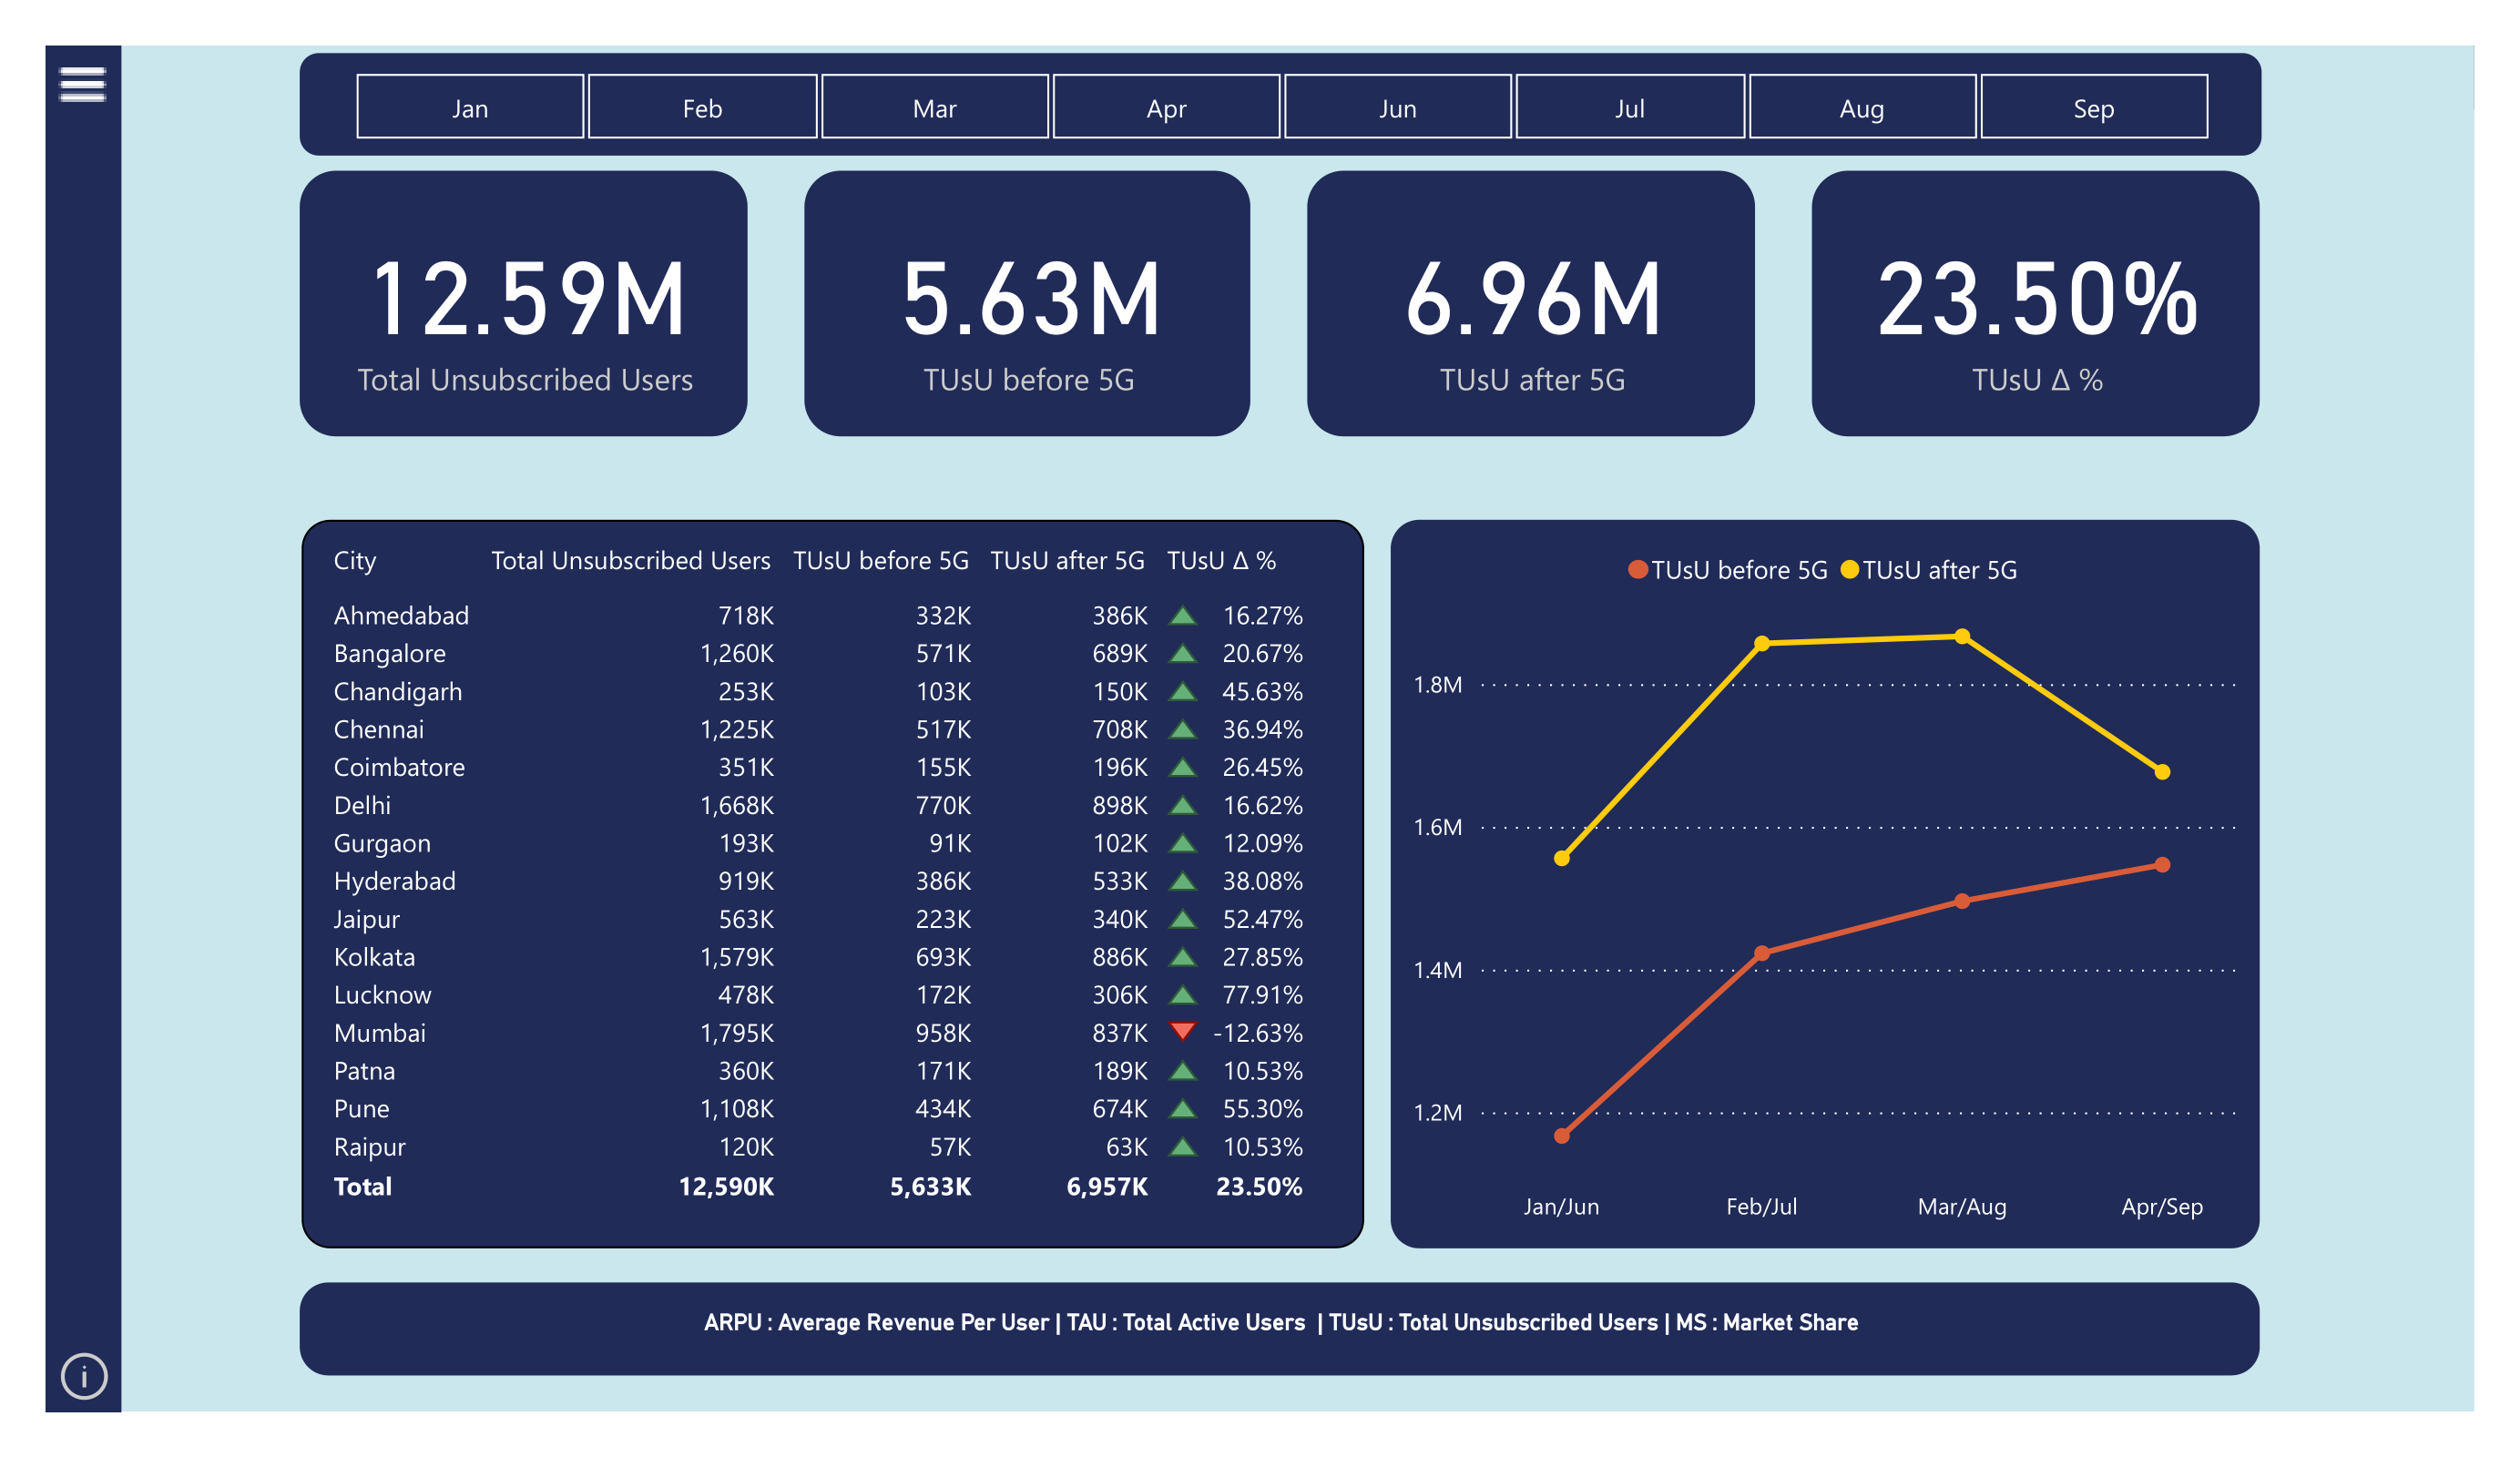

What the dashboard file says about the page in this screenshot:
{"tool":"powerbi","page":{"name":"TSU","canvas":[1280,720],"ordinal":4},"visuals":[{"type":"shape","title":"blue left border","box":[0,0,40,935],"z":0,"group":"g2"},{"type":"slicer","fields":{"Values":["dim_date.month_name"]},"box":[134,4,1034,54],"z":0},{"type":"card","fields":{"Values":["Key Measures.Tot Unsub Users"]},"box":[133.6,66,235.9,140.2],"z":0,"group":"g1"},{"type":"actionButton","title":"hamburger","box":[2,3,35,35],"z":1000,"group":"g2"},{"type":"group","id":"g1","title":"Group 1","box":[133.6,66,1032.6,635],"z":1000},{"type":"card","fields":{"Values":["Key Measures.TUU before 5G"]},"box":[399.2,66,235.9,140.2],"z":1000,"group":"g1"},{"type":"card","fields":{"Values":["Key Measures.TUU after 5G"]},"box":[664.7,66,235.9,140.2],"z":2000,"group":"g1"},{"type":"actionButton","title":"info","box":[3,684.4,34.8,34.8],"z":2000,"group":"g2"},{"type":"group","id":"g2","title":"Menu Bar","box":[0,0,40,935],"z":3000},{"type":"card","fields":{"Values":["Key Measures.TUU Δ %"]},"box":[930.3,66,235.9,140.2],"z":3000,"group":"g1"},{"type":"lineChart","fields":{"Category":["dim_date.Month compare"],"Y":["Key Measures.TUsU before 5G","Key Measures.TUsU after 5G"]},"box":[709.1,249.9,457.1,384],"z":4000,"group":"g1"},{"type":"textbox","box":[134.1,652.2,1032.1,48.8],"z":5000,"group":"g1"},{"type":"tableEx","fields":{"Values":["dim_cities.city_name","Key Measures.Tot Unsub Users","Key Measures.TUsU before 5G","Key Measures.TUsU after 5G","Key Measures.TUU Δ %"]},"box":[134.4,250,560,384],"z":6000,"group":"g1"}]}

Visuals, with their boxes on the page's 1280x720 design canvas (x1, y1, x2, y2). These are canvas units, not pixel positions in the 2520x1457 screenshot, which may show the page scaled, cropped or inside an application window:
"blue left border" shape: (0, 0, 40, 935)
slicer - dim_date.month_name: (134, 4, 1168, 58)
card - Key Measures.Tot Unsub Users: (134, 66, 370, 206)
"hamburger" actionButton: (2, 3, 37, 38)
"Group 1" group: (134, 66, 1166, 701)
card - Key Measures.TUU before 5G: (399, 66, 635, 206)
card - Key Measures.TUU after 5G: (665, 66, 901, 206)
"info" actionButton: (3, 684, 38, 719)
"Menu Bar" group: (0, 0, 40, 935)
card - Key Measures.TUU Δ %: (930, 66, 1166, 206)
lineChart - dim_date.Month compare x Key Measures.TUsU before 5G: (709, 250, 1166, 634)
textbox: (134, 652, 1166, 701)
tableEx - dim_cities.city_name x Key Measures.Tot Unsub Users: (134, 250, 694, 634)
